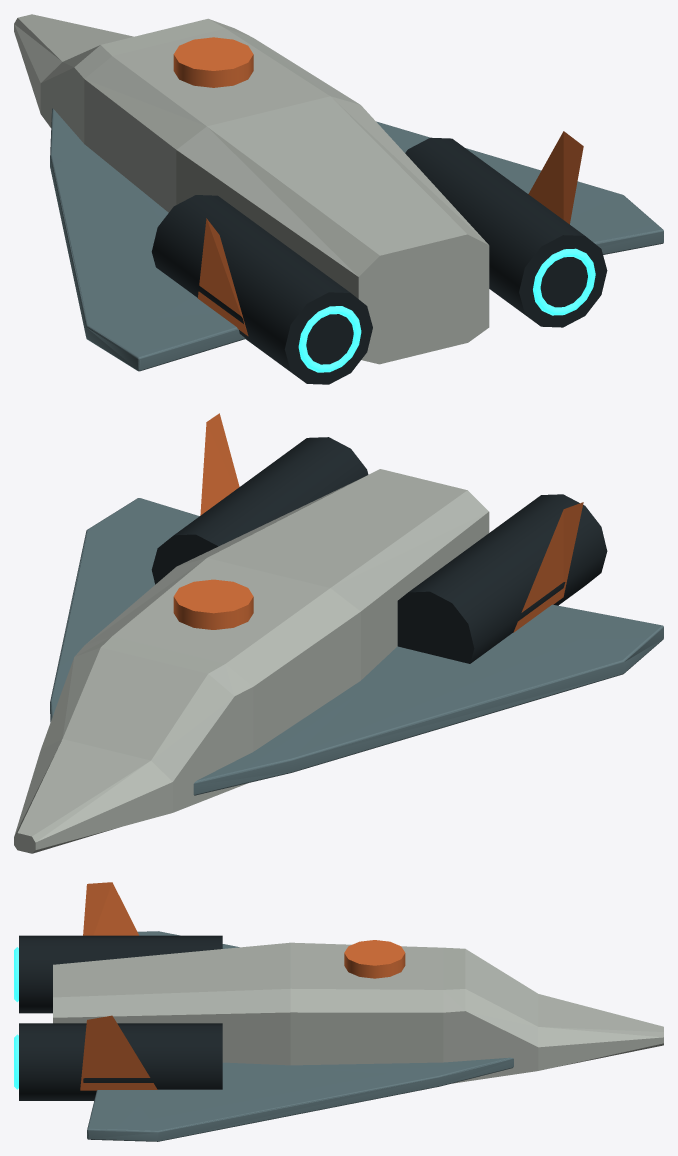
Rendered from hero-ship-far.glb.
3 views of the same model, one above another, from view 1: azimuth 30°, elevation 25°; view 2: azimuth 150°, elevation 25°; view 3: azimuth 270°, elevation 25° (orthographic). The views are drawn at different scales.
Visible parts, largest first — view 1: hero-ship / far; view 2: hero-ship / far; view 3: hero-ship / far.
Boxes of the visible parts, x1=… form: hero-ship / far: x1=14, y1=14, x2=663, y2=384; hero-ship / far: x1=14, y1=413, x2=663, y2=853; hero-ship / far: x1=14, y1=882, x2=663, y2=1141.
Size of the model in its own units: 14 by 3.8 by 19.15.
